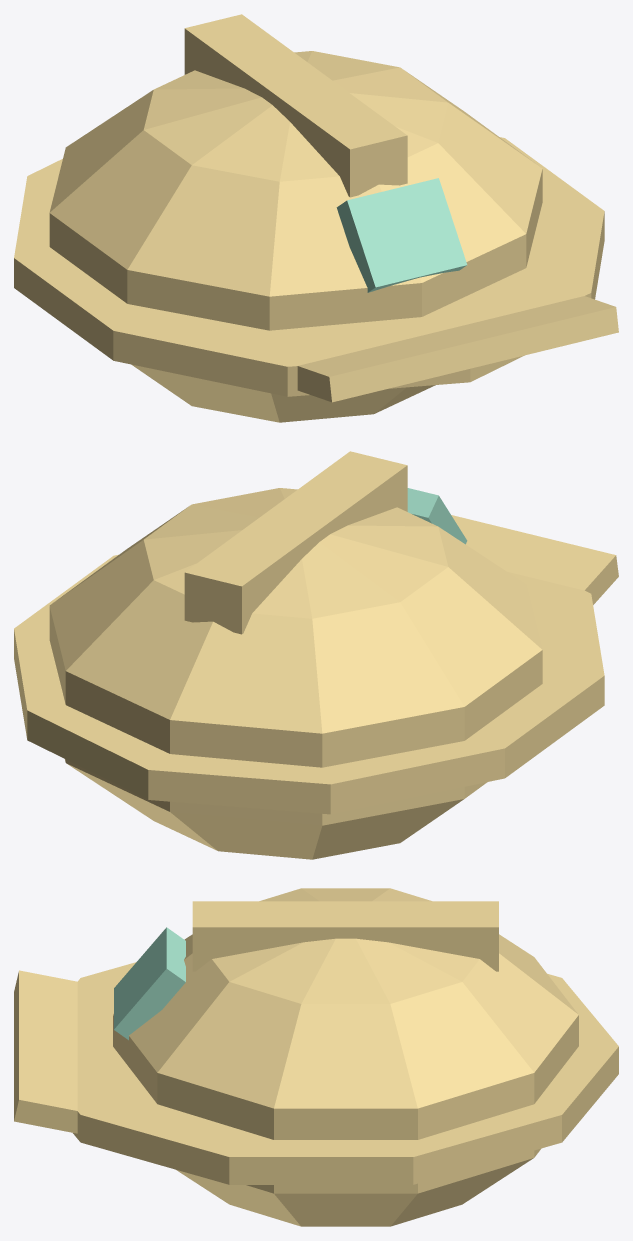
The model's file is CleanACat_Prop_HardHat.fbx.
The picture shows the model from 3 angles, top to bottom: view 1: azimuth 30°, elevation 25°; view 2: azimuth 150°, elevation 25°; view 3: azimuth 270°, elevation 25°; orthographic projection. The views are drawn at different scales.
Parts seen in each view (by area): view 1: CleanACat_Prop_HardHat; view 2: CleanACat_Prop_HardHat; view 3: CleanACat_Prop_HardHat.
Boxes of the visible parts, x1,y1,x2,y2 form: CleanACat_Prop_HardHat: [14, 14, 618, 422]; CleanACat_Prop_HardHat: [14, 451, 618, 859]; CleanACat_Prop_HardHat: [14, 888, 618, 1226].
Size of the model in its own units: 1.07 by 0.6325 by 1.23.
Materials: 1 (1 with a texture image).
